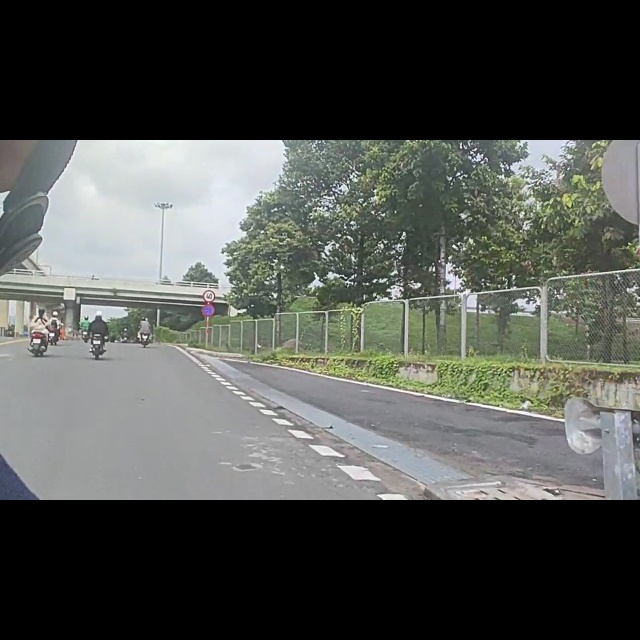bien_cam: (201, 290, 216, 314), (203, 265, 217, 289)
